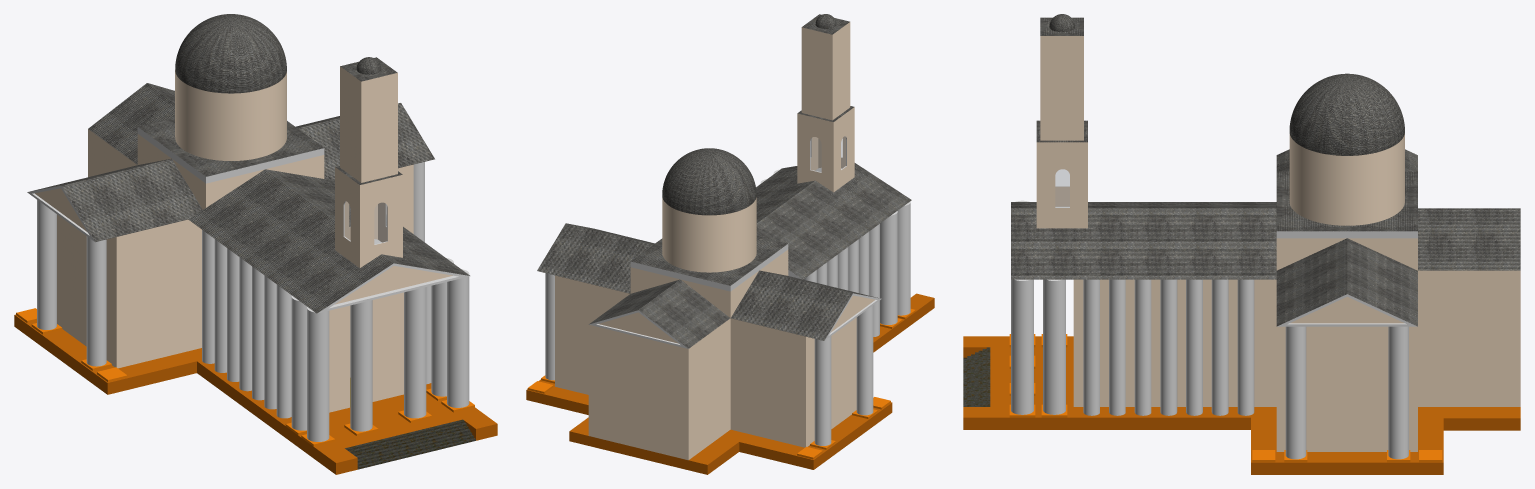
File: petropavlovsky-gomel.glb
The picture shows the model from 3 angles, left to right: view 1: azimuth 30°, elevation 25°; view 2: azimuth 150°, elevation 25°; view 3: azimuth 270°, elevation 25°; orthographic projection. The views are drawn at different scales.
Parts seen in each view (by area): view 1: Geom3D (×6), Geom3D_; view 2: Geom3D (×5), Geom3D_; view 3: Geom3D (×5), Geom3D_.
Boxes of the visible parts, x1=… form: Geom3D (×6): x1=14, y1=14, x2=497, y2=474; Geom3D_: x1=27, y1=127, x2=470, y2=441; Geom3D (×5): x1=526, y1=14, x2=934, y2=474; Geom3D_: x1=545, y1=136, x2=910, y2=445; Geom3D (×5): x1=963, y1=14, x2=1520, y2=474; Geom3D_: x1=1011, y1=186, x2=1417, y2=459.
Size of the model in its own units: 31.6 by 32.15 by 43.4.
7 materials, 2 textured.
